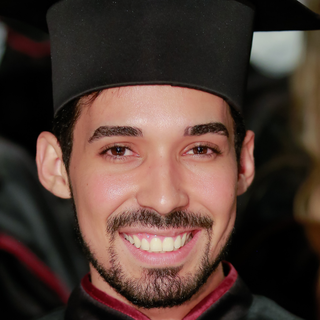eye: (94, 140, 142, 164), (179, 139, 225, 163)
